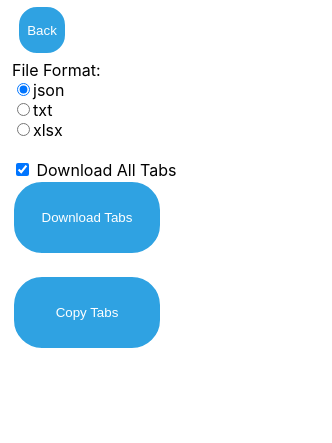
Test: DownloadTabsList Component with setShowUploadButton hidden › downloadAllTabsCheckbox is unchecked › List of tabs is displayed properly
Click the checkbox at (22, 170), box [16,163,29,176]
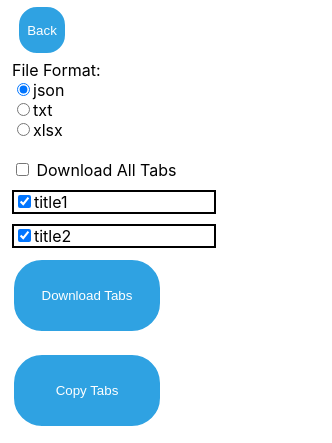
Now the 1st checkbox is not checked, box [16,163,29,176]
Now the text "title1" is shown, box [14,192,68,212]
